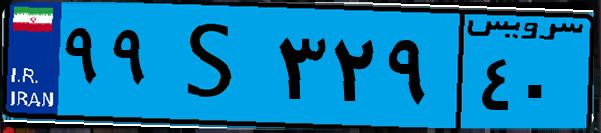0: (525, 38, 570, 115)
2: (330, 28, 385, 110)
3: (270, 28, 330, 110)
4: (475, 38, 525, 113)
9: (385, 28, 445, 110), (57, 26, 110, 100), (110, 28, 158, 98)
S: (158, 12, 270, 120)
